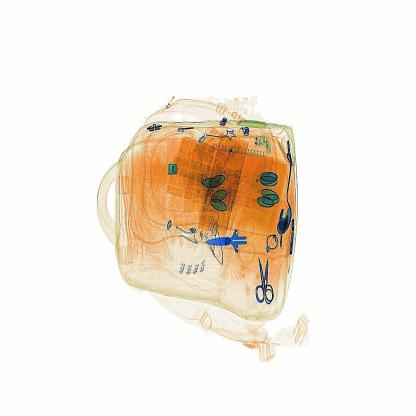gun: (198, 207, 264, 278)
